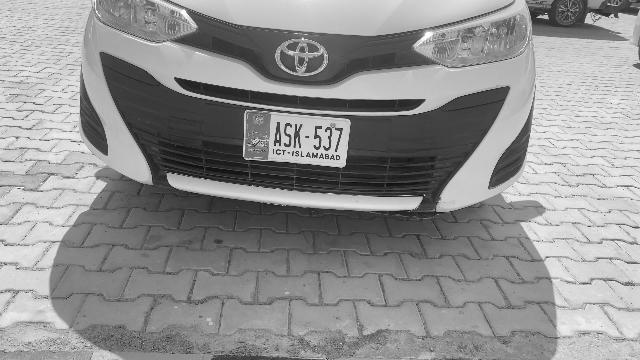Number: (271, 120, 345, 154)
